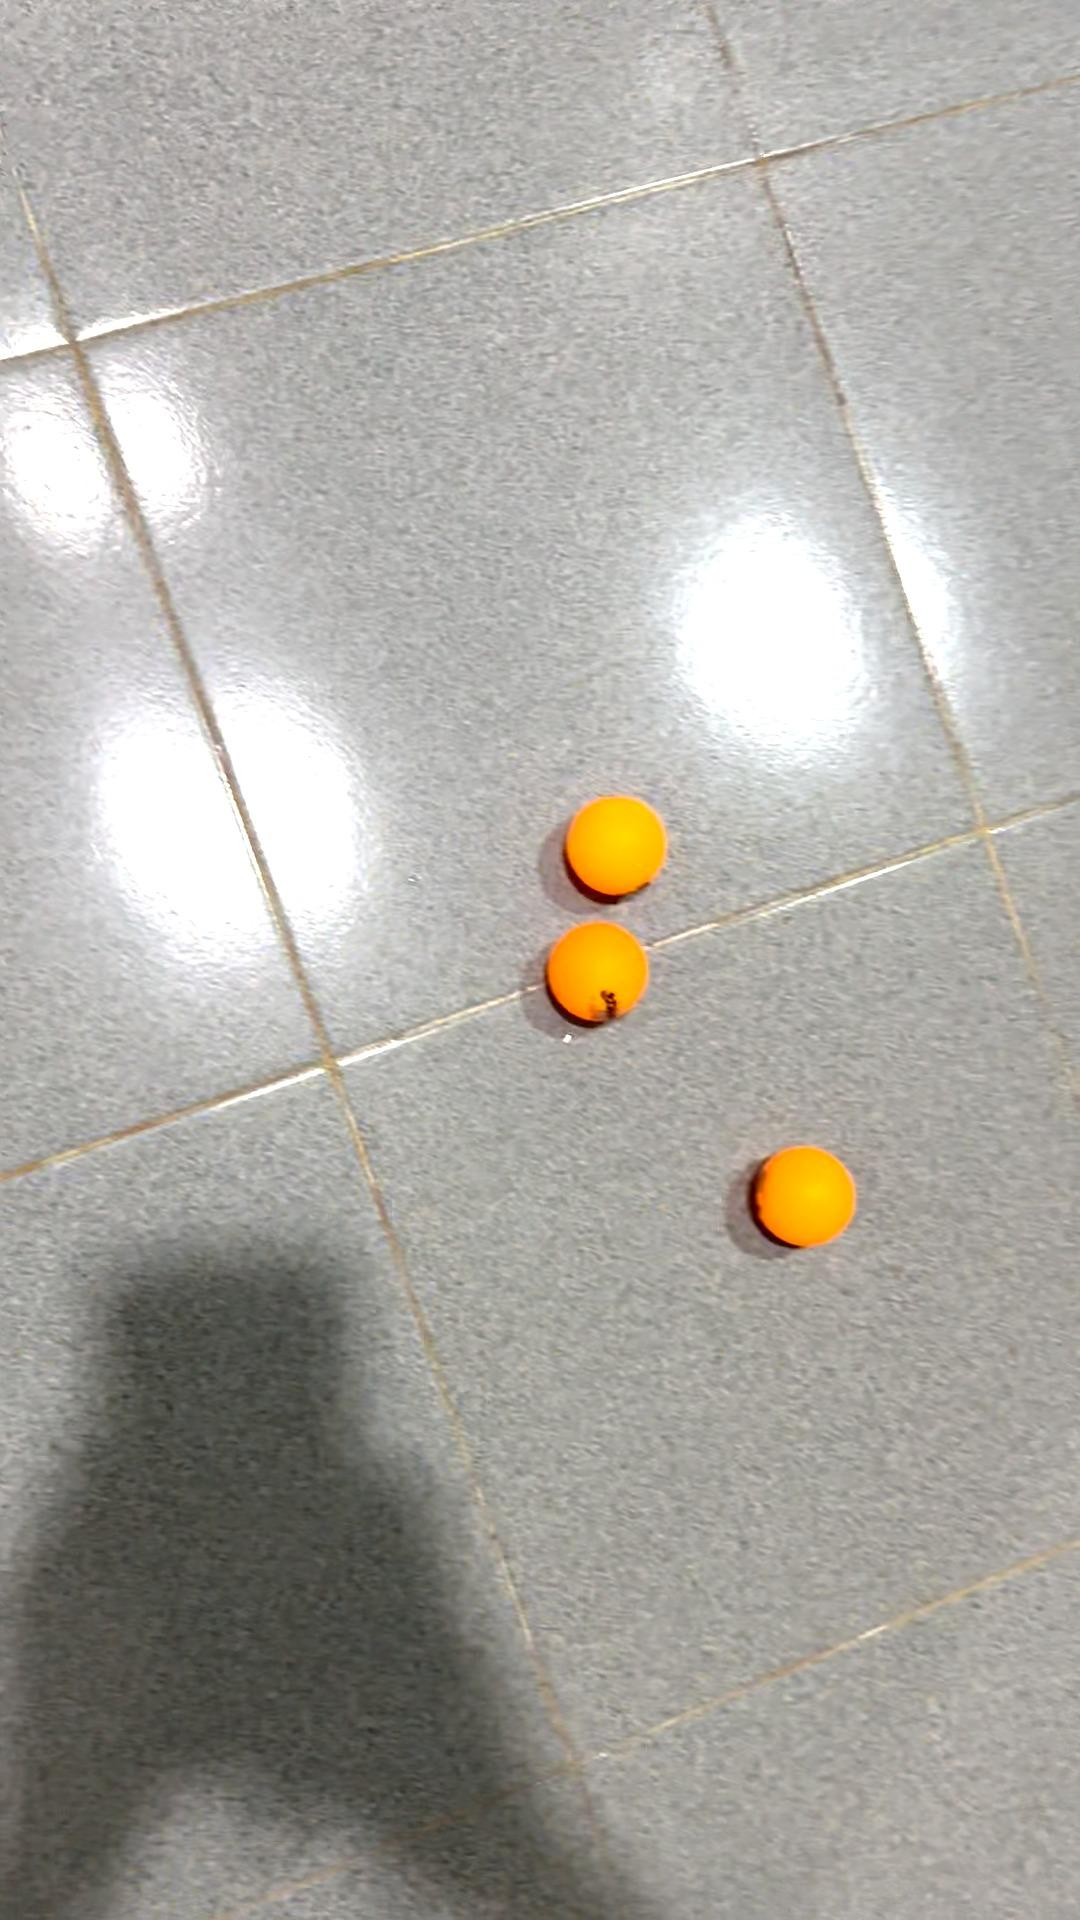oball: (537, 914, 657, 1029), (754, 1134, 861, 1257), (562, 791, 675, 902)
